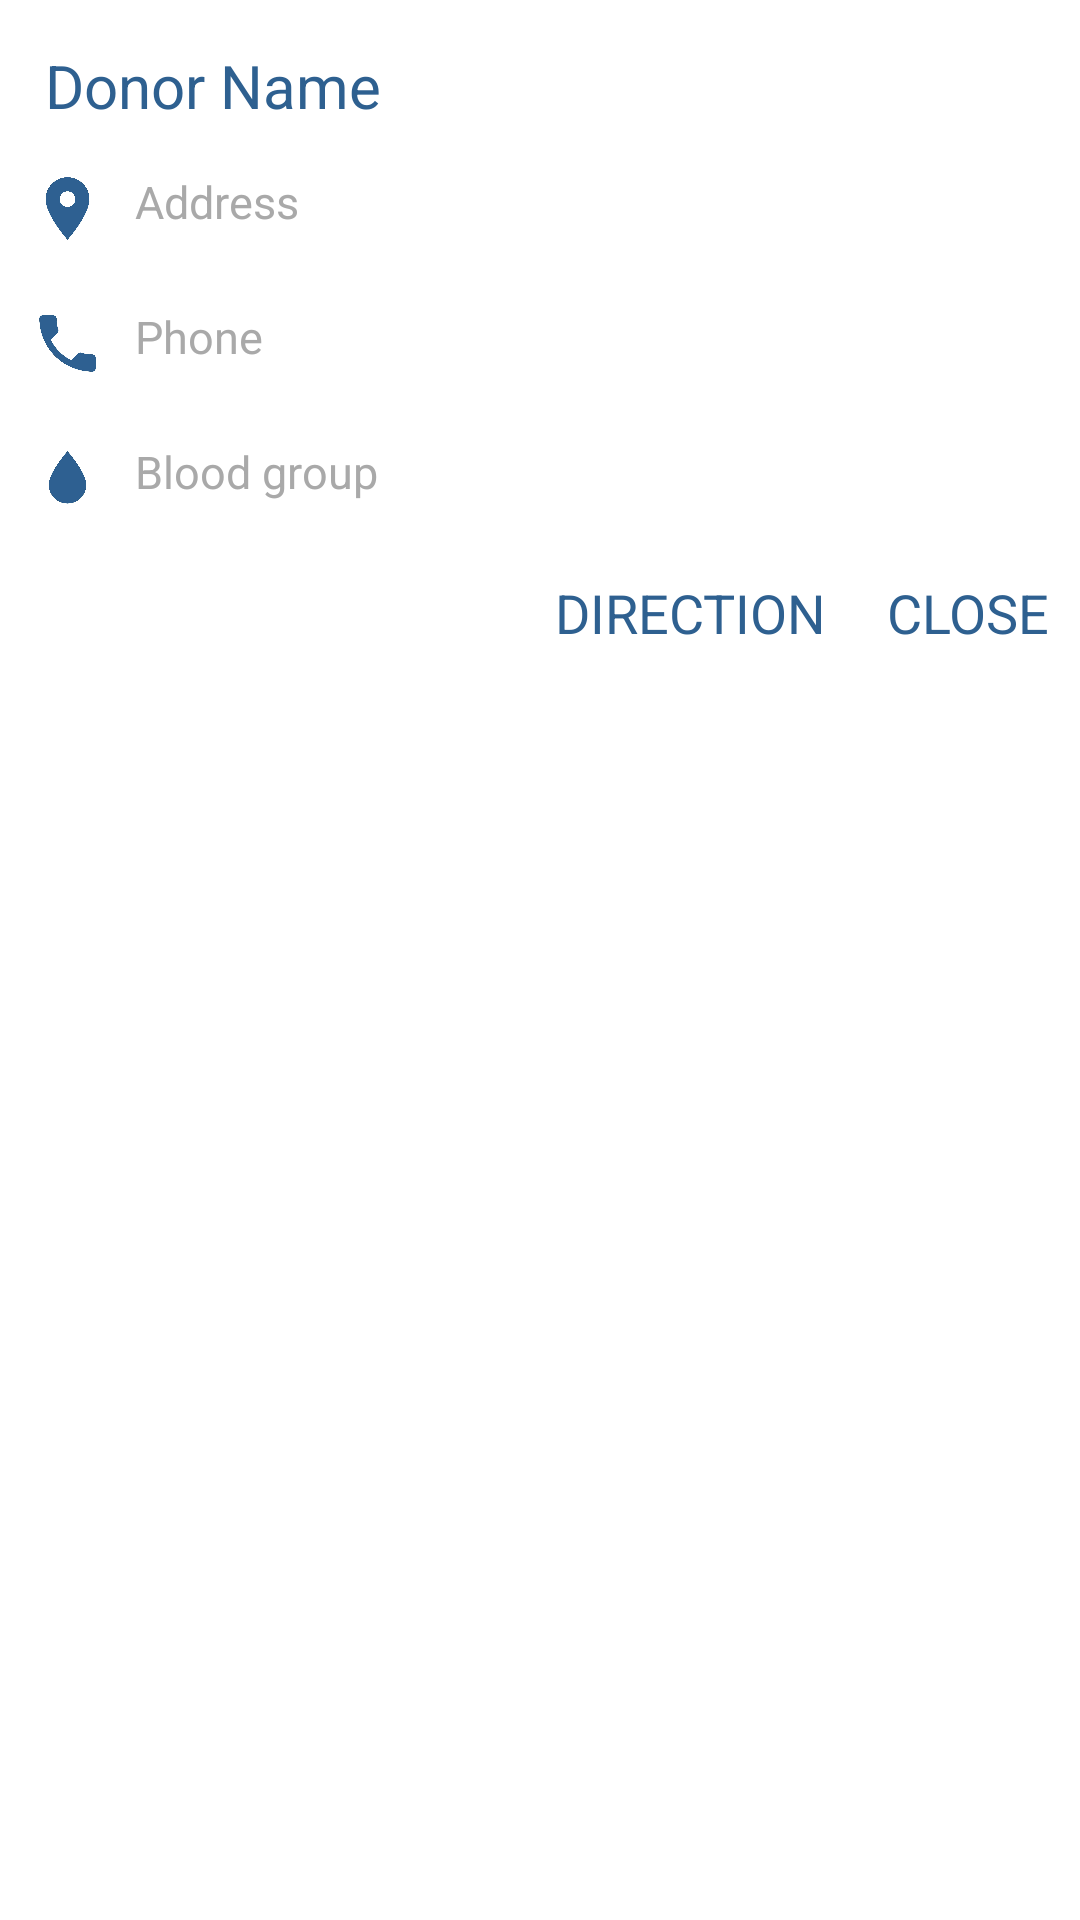

Named icons in this screenshot (1080 x 1920) and their bounding boxes, (x1, y1, x2, y2):
drop: (49, 451, 86, 504)
location: (46, 177, 89, 240)
